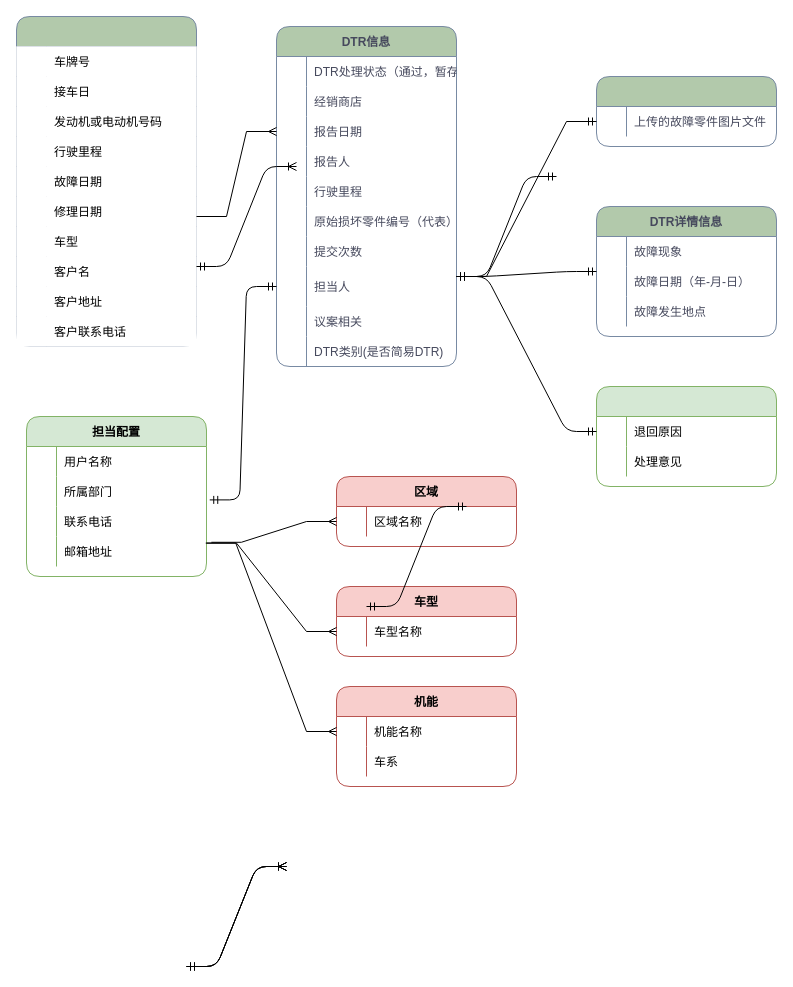
Image size: 793x987. Some labels were removed from this diagram. The shapes that lost their labels are listed below. From the top down, each one's box as (x1, y1, x2, y2) in pixels, then its label:
(596, 76, 776, 146): DTR详情议案附件
(16, 16, 196, 346): 工单
(596, 386, 776, 486): DTR驳回信息
